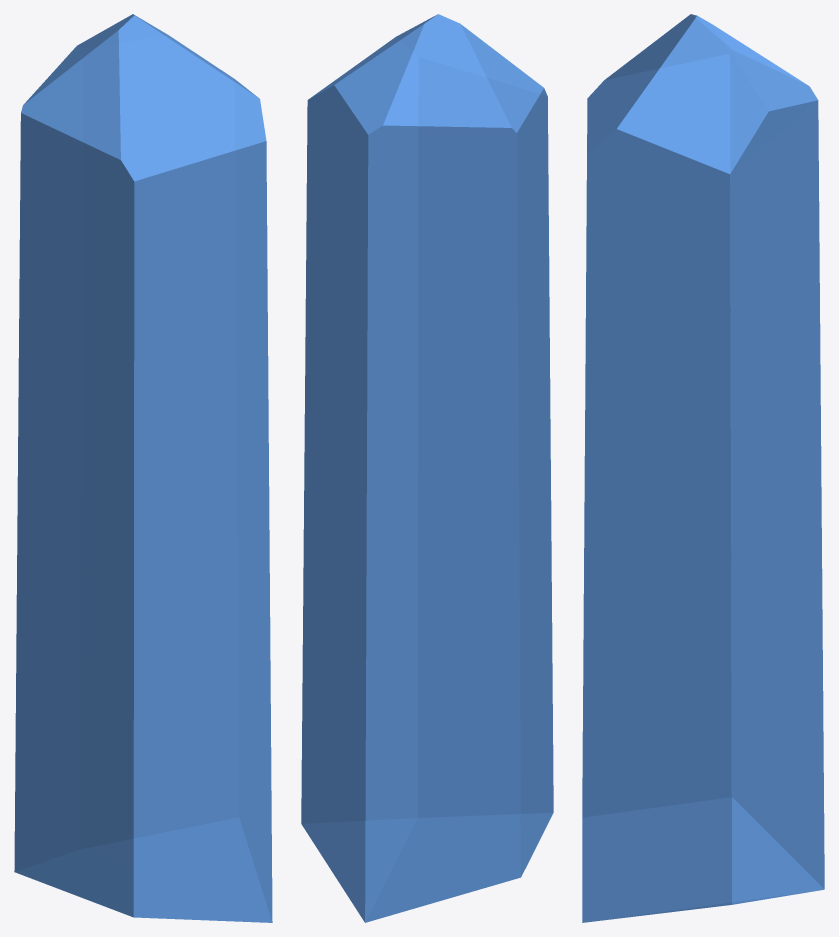
File: Crystal_s_01.fbx
3 renders of one model, left to right at view 1: azimuth 30°, elevation 25°; view 2: azimuth 150°, elevation 25°; view 3: azimuth 270°, elevation 25°, orthographic. The views are drawn at different scales.
Parts seen in each view (by area): view 1: Crystal_s_01; view 2: Crystal_s_01; view 3: Crystal_s_01.
Part boxes in pixels (bbox=[...]): Crystal_s_01: bbox=[14, 14, 272, 922]; Crystal_s_01: bbox=[301, 14, 553, 922]; Crystal_s_01: bbox=[582, 14, 824, 922].
Bounding box in the file's own units: 0.2752 × 1.03 × 0.2617.
